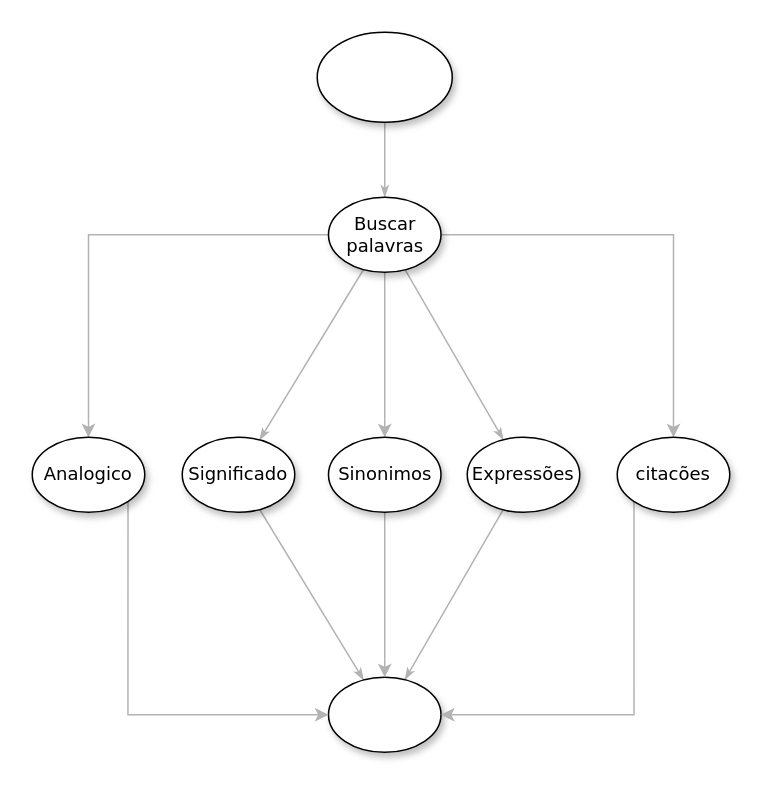
This 765x789 diagram has some shape labels left out. The shapes that lost their labels are listed below. From the top down, each one's centre as x and y in pixels, then its label:
[385,79]: Iniciar Node
[385,716]: Publicar dados
